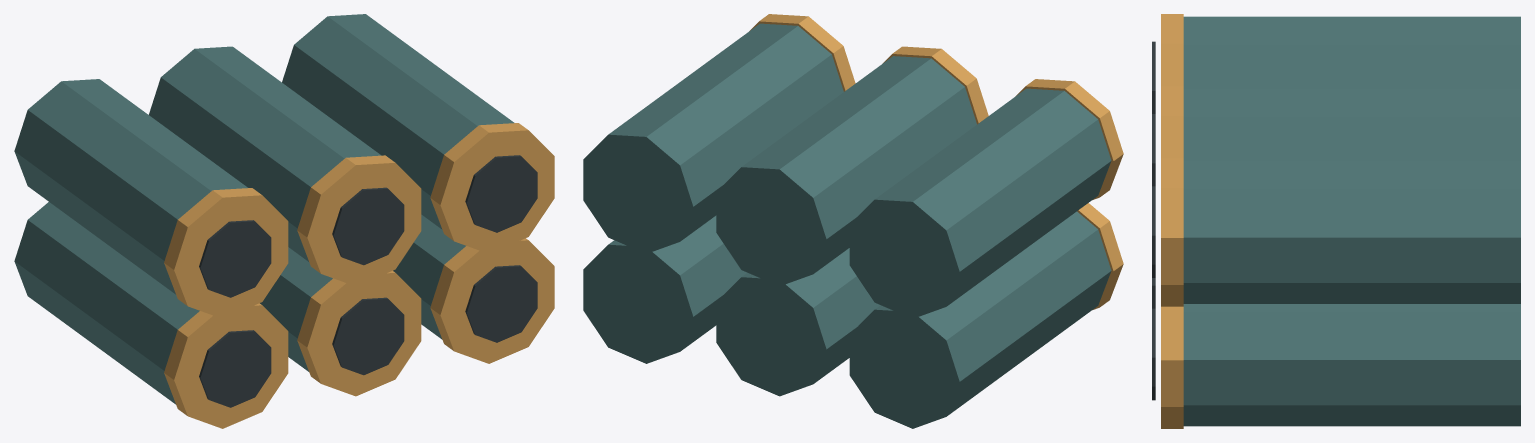
The model's file is SleeveStock.glb.
3 views of the same model, side by side, from view 1: azimuth 30°, elevation 25°; view 2: azimuth 150°, elevation 25°; view 3: azimuth 270°, elevation 25° (orthographic). The views are drawn at different scales.
Parts seen in each view (by area): view 1: SleeveStock; view 2: SleeveStock; view 3: SleeveStock.
Part boxes in pixels (<box>): SleeveStock: <box>14,14,554,428</box>; SleeveStock: <box>583,14,1123,428</box>; SleeveStock: <box>1152,14,1520,428</box>.
Bounding box in the file's own units: 0.5429 × 0.3154 × 0.41.
